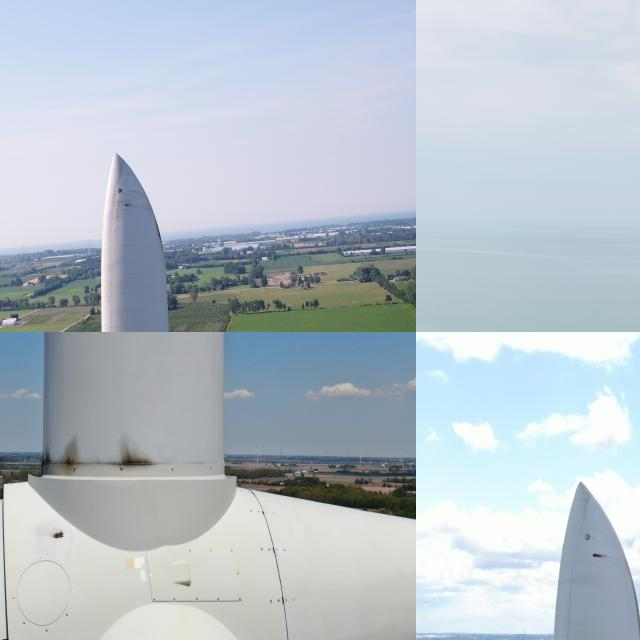damage: (32, 435, 86, 475), (117, 432, 157, 477), (592, 548, 611, 562), (122, 200, 130, 210)
